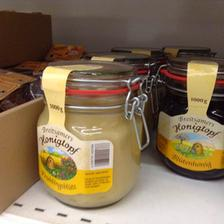Honig: (19, 57, 156, 209), (154, 54, 222, 180)
